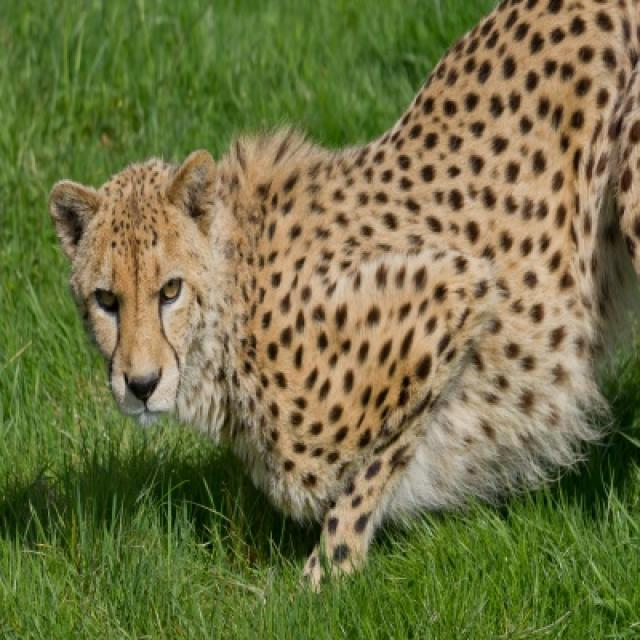Cheetah: (46, 0, 638, 594)
